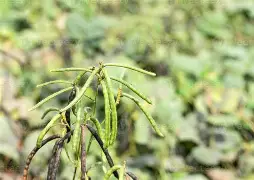crops: (0, 0, 250, 73), (21, 61, 162, 178)
